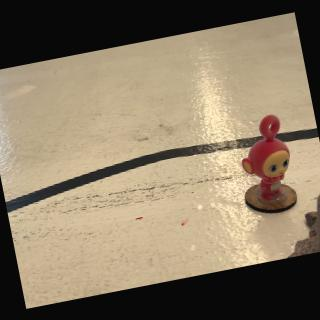teletubby: (242, 114, 289, 199)
